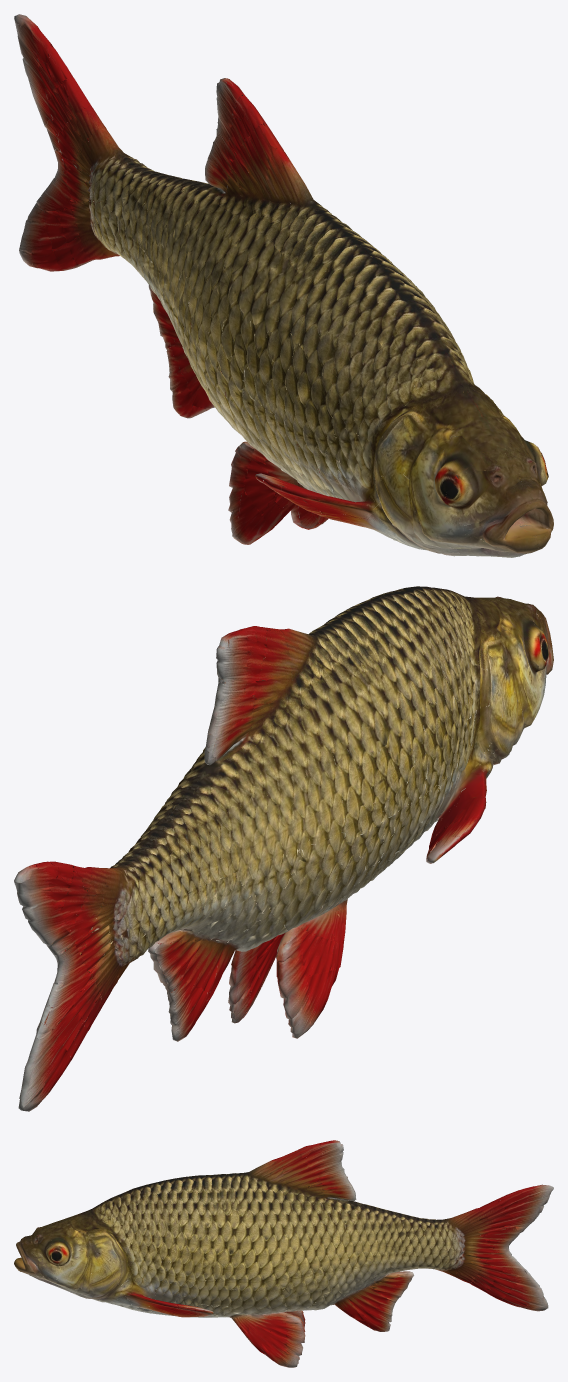
Rendered from wzdrega.glb.
3 views of the same model, one above another, from view 1: azimuth 30°, elevation 25°; view 2: azimuth 150°, elevation 25°; view 3: azimuth 270°, elevation 25° (orthographic). The views are drawn at different scales.
Parts seen in each view (by area): view 1: Mesh_0; view 2: Mesh_0; view 3: Mesh_0.
Part boxes in pixels (left/top/right/bottom): Mesh_0: left=14, top=14, right=553, bottom=557; Mesh_0: left=14, top=586, right=553, bottom=1111; Mesh_0: left=14, top=1140, right=553, bottom=1367.
Size of the model in its own units: 0.4189 by 0.8501 by 1.9.
1 material, 1 textured.
